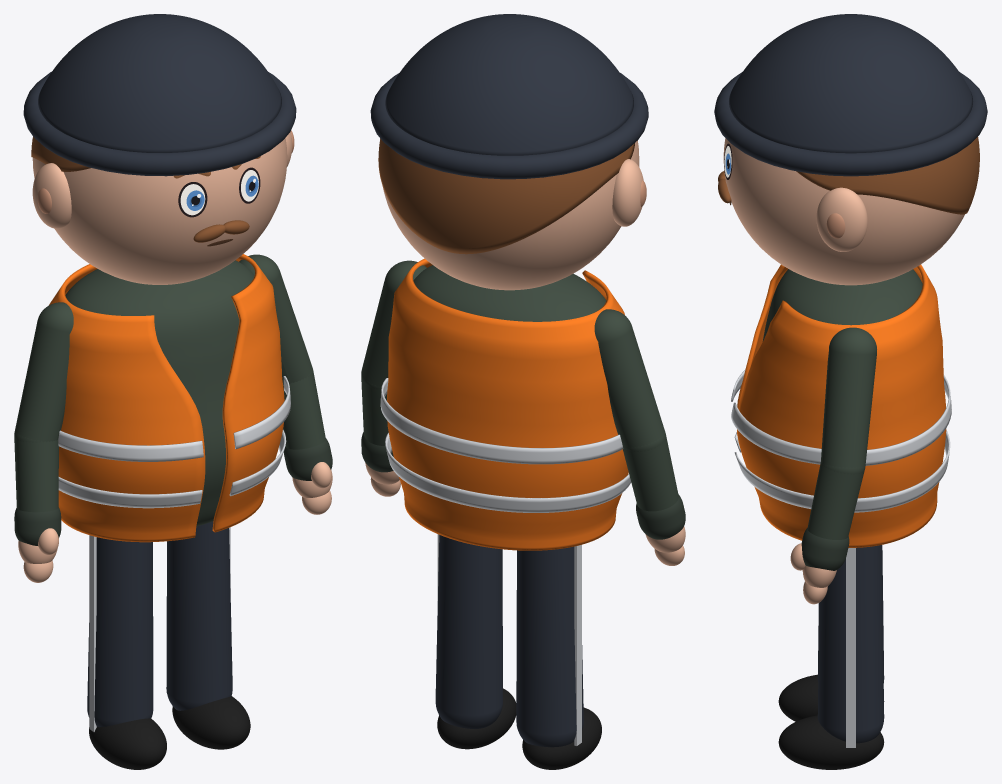
File: vuilnisman.glb
3 renders of one model, left to right at view 1: azimuth 30°, elevation 25°; view 2: azimuth 150°, elevation 25°; view 3: azimuth 270°, elevation 25°, orthographic.
Visible parts, largest first — view 1: vuilnisman_hesje, vuilnisman_muts, vuilnisman_hoofd, vuilnisman_romp, vuilnisman_been_L, vuilnisman_been_R, vuilnisman_muts_rand, vuilnisman_bovenarm_R, vuilnisman_hesje_band1, vuilnisman_onderarm_R, vuilnisman_schoen_R, vuilnisman_schoen_L (+8 smaller); view 2: vuilnisman_hesje, vuilnisman_muts, vuilnisman_haar, vuilnisman_been_L, vuilnisman_been_R, vuilnisman_hoofd, vuilnisman_muts_rand, vuilnisman_romp, vuilnisman_bovenarm_R, vuilnisman_hesje_band1, vuilnisman_hesje_band0, vuilnisman_onderarm_R (+8 smaller); view 3: vuilnisman_hesje, vuilnisman_muts, vuilnisman_hoofd, vuilnisman_been_L, vuilnisman_muts_rand, vuilnisman_bovenarm_L, vuilnisman_romp, vuilnisman_haar, vuilnisman_hesje_band1, vuilnisman_schoen_L, vuilnisman_onderarm_L, vuilnisman_hesje_band0 (+5 smaller).
Part boxes in pixels (bbox=[...]): vuilnisman_hesje: bbox=[49, 254, 284, 542]; vuilnisman_muts: bbox=[38, 14, 281, 152]; vuilnisman_hoofd: bbox=[32, 138, 287, 284]; vuilnisman_romp: bbox=[65, 260, 254, 526]; vuilnisman_been_L: bbox=[166, 521, 232, 710]; vuilnisman_been_R: bbox=[87, 537, 153, 727]; vuilnisman_muts_rand: bbox=[23, 71, 296, 176]; vuilnisman_bovenarm_R: bbox=[15, 302, 73, 442]; vuilnisman_hesje_band1: bbox=[58, 376, 290, 461]; vuilnisman_onderarm_R: bbox=[14, 436, 58, 512]; vuilnisman_schoen_R: bbox=[89, 718, 166, 769]; vuilnisman_schoen_L: bbox=[172, 696, 250, 749]; vuilnisman_hesje: bbox=[387, 258, 628, 550]; vuilnisman_muts: bbox=[385, 14, 633, 155]; vuilnisman_haar: bbox=[378, 139, 634, 254]; vuilnisman_been_L: bbox=[435, 535, 502, 728]; vuilnisman_been_R: bbox=[516, 546, 583, 747]; vuilnisman_hoofd: bbox=[383, 140, 639, 290]; vuilnisman_muts_rand: bbox=[370, 73, 648, 179]; vuilnisman_romp: bbox=[413, 265, 606, 321]; vuilnisman_bovenarm_R: bbox=[594, 309, 665, 450]; vuilnisman_hesje_band1: bbox=[380, 378, 623, 464]; vuilnisman_hesje_band0: bbox=[385, 432, 631, 512]; vuilnisman_onderarm_R: bbox=[623, 435, 678, 511]; vuilnisman_hesje: bbox=[737, 264, 946, 547]; vuilnisman_muts: bbox=[729, 14, 972, 153]; vuilnisman_hoofd: bbox=[723, 138, 964, 285]; vuilnisman_been_L: bbox=[817, 545, 884, 743]; vuilnisman_muts_rand: bbox=[714, 71, 987, 176]; vuilnisman_bovenarm_L: bbox=[821, 327, 876, 473]; vuilnisman_romp: bbox=[762, 269, 922, 341]; vuilnisman_haar: bbox=[796, 137, 979, 214]; vuilnisman_hesje_band1: bbox=[731, 370, 951, 465]; vuilnisman_schoen_L: bbox=[778, 715, 884, 769]; vuilnisman_onderarm_L: bbox=[807, 462, 864, 539]; vuilnisman_hesje_band0: bbox=[734, 430, 950, 512].
Bounding box in the file's own units: 0.8489 × 1.87 × 0.644.
